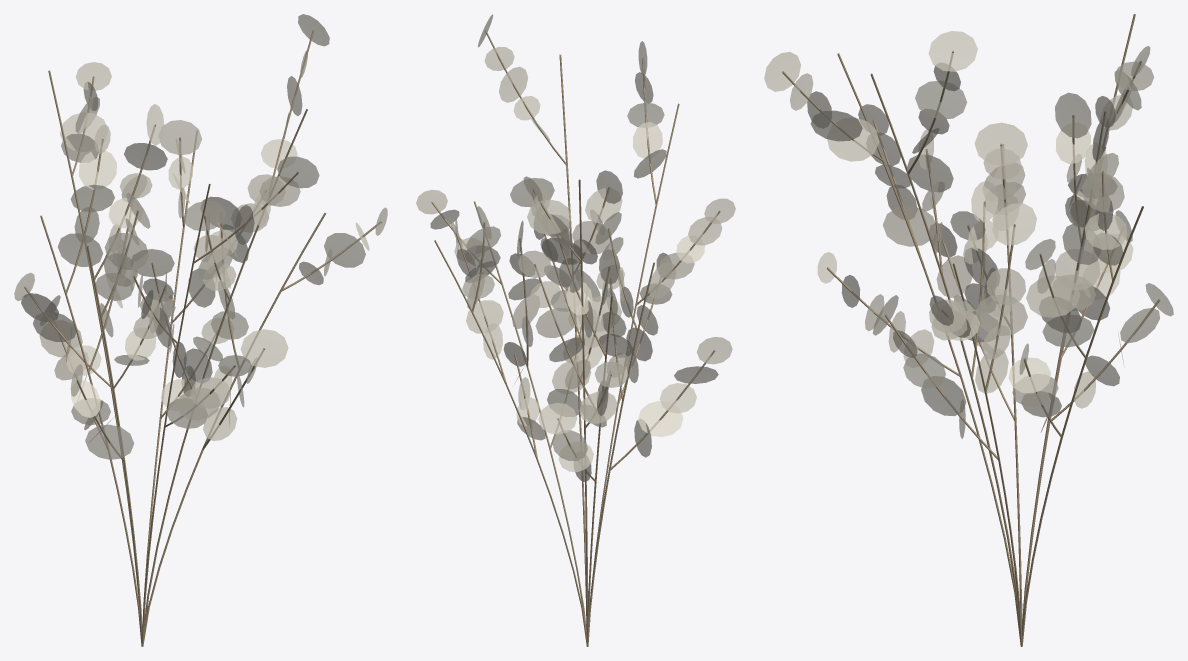
Rendered from lunaria-1.glb.
3 views of the same model, side by side, from view 1: azimuth 30°, elevation 25°; view 2: azimuth 150°, elevation 25°; view 3: azimuth 270°, elevation 25° (orthographic). The views are drawn at different scales.
Parts seen in each view (by area): view 1: lunaria-leaves, lunaria-stems; view 2: lunaria-leaves, lunaria-stems; view 3: lunaria-leaves, lunaria-stems.
Part boxes in pixels (box(x1,y1,x2,y2)): lunaria-leaves: box(14, 14, 387, 459); lunaria-stems: box(24, 30, 381, 646); lunaria-leaves: box(416, 14, 735, 481); lunaria-stems: box(431, 30, 720, 646); lunaria-leaves: box(764, 31, 1173, 438); lunaria-stems: box(782, 14, 1159, 646).
Bounding box in the file's own units: 0.4201 × 0.7584 × 0.4086.
